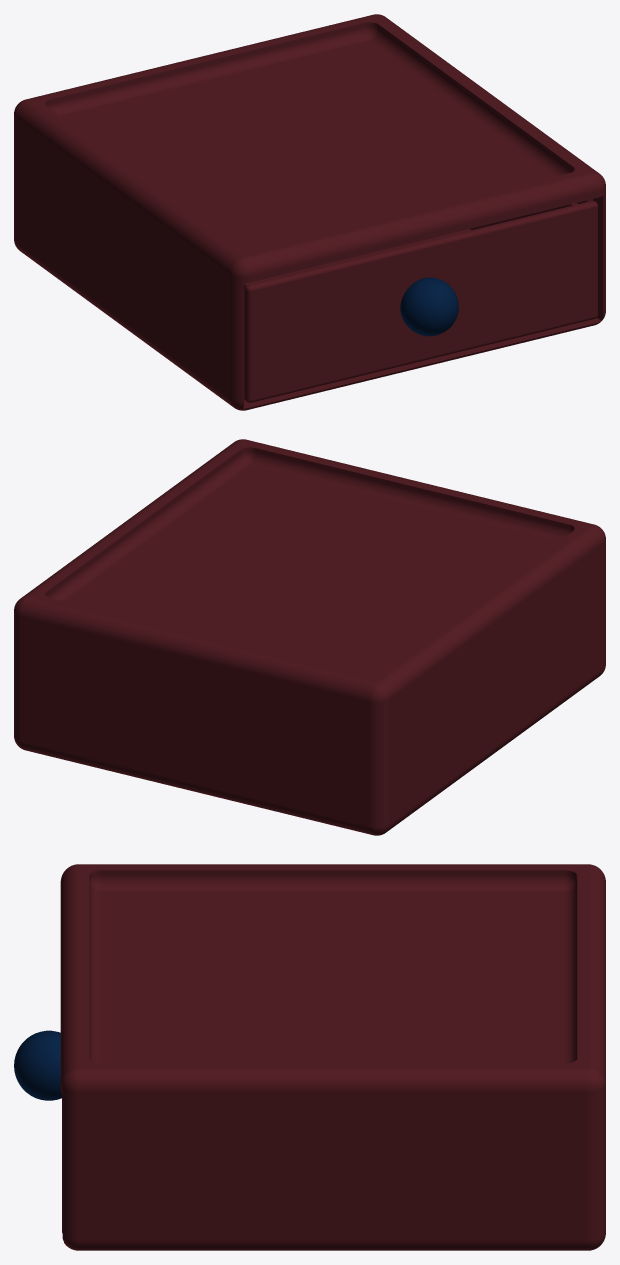
The picture shows the model from 3 angles, top to bottom: view 1: azimuth 30°, elevation 25°; view 2: azimuth 150°, elevation 25°; view 3: azimuth 270°, elevation 25°; orthographic projection. The views are drawn at different scales.
Visible parts, largest first — view 1: /Asset/Links/housing/Visuals/shell/Geom/housing_shell_obj, /Asset/Links/drawer/Visuals/front/Geom/drawer_front_obj, /Asset/Links/drawer/Visuals/pull/Geom; view 2: /Asset/Links/housing/Visuals/shell/Geom/housing_shell_obj; view 3: /Asset/Links/housing/Visuals/shell/Geom/housing_shell_obj, /Asset/Links/drawer/Visuals/pull/Geom.
Boxes of the visible parts, left/top/right/bottom form: /Asset/Links/housing/Visuals/shell/Geom/housing_shell_obj: left=14, top=14, right=605, bottom=410; /Asset/Links/drawer/Visuals/front/Geom/drawer_front_obj: left=244, top=200, right=597, bottom=402; /Asset/Links/drawer/Visuals/pull/Geom: left=400, top=277, right=458, bottom=336; /Asset/Links/housing/Visuals/shell/Geom/housing_shell_obj: left=14, top=439, right=605, bottom=835; /Asset/Links/housing/Visuals/shell/Geom/housing_shell_obj: left=60, top=864, right=605, bottom=1250; /Asset/Links/drawer/Visuals/pull/Geom: left=14, top=1030, right=61, bottom=1100.
Bounding box in the file's own units: 0.198 × 0.077 × 0.228.
